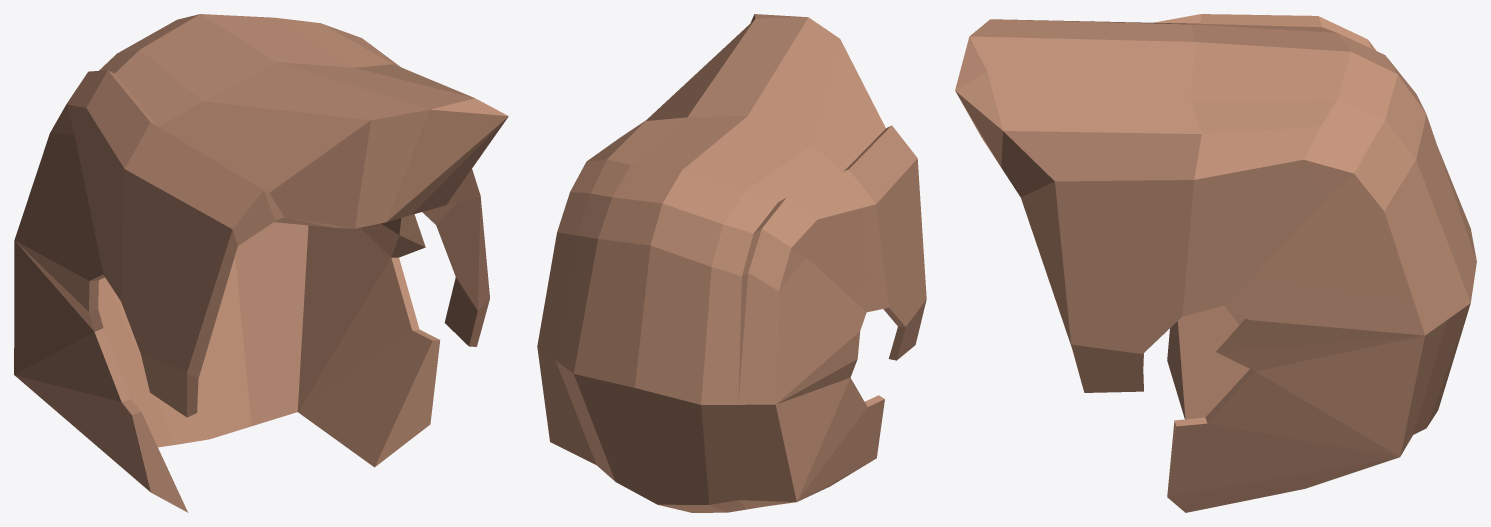
File: Beachgoer_M_Hair_A.fbx
3 renders of one model, left to right at view 1: azimuth 30°, elevation 25°; view 2: azimuth 150°, elevation 25°; view 3: azimuth 270°, elevation 25°, orthographic. The views are drawn at different scales.
Parts seen in each view (by area): view 1: Beachgoer_M_Hair_A; view 2: Beachgoer_M_Hair_A; view 3: Beachgoer_M_Hair_A.
Part boxes in pixels (left/top/right/bottom): Beachgoer_M_Hair_A: left=14, top=14, right=508, bottom=512; Beachgoer_M_Hair_A: left=537, top=14, right=926, bottom=512; Beachgoer_M_Hair_A: left=955, top=14, right=1476, bottom=512.
Size of the model in its own units: 17.86 by 23.74 by 24.82.
